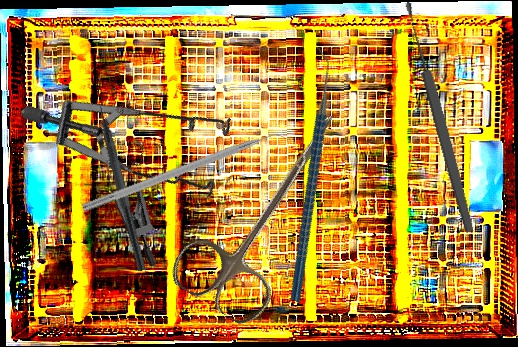Chopper: (207, 45, 407, 304), (81, 125, 293, 224), (90, 89, 159, 272)
Iris Scissors: (164, 86, 371, 332)
Speculum: (19, 10, 259, 251), (81, 129, 202, 269)
Surgical Spoon: (401, 0, 477, 234)
